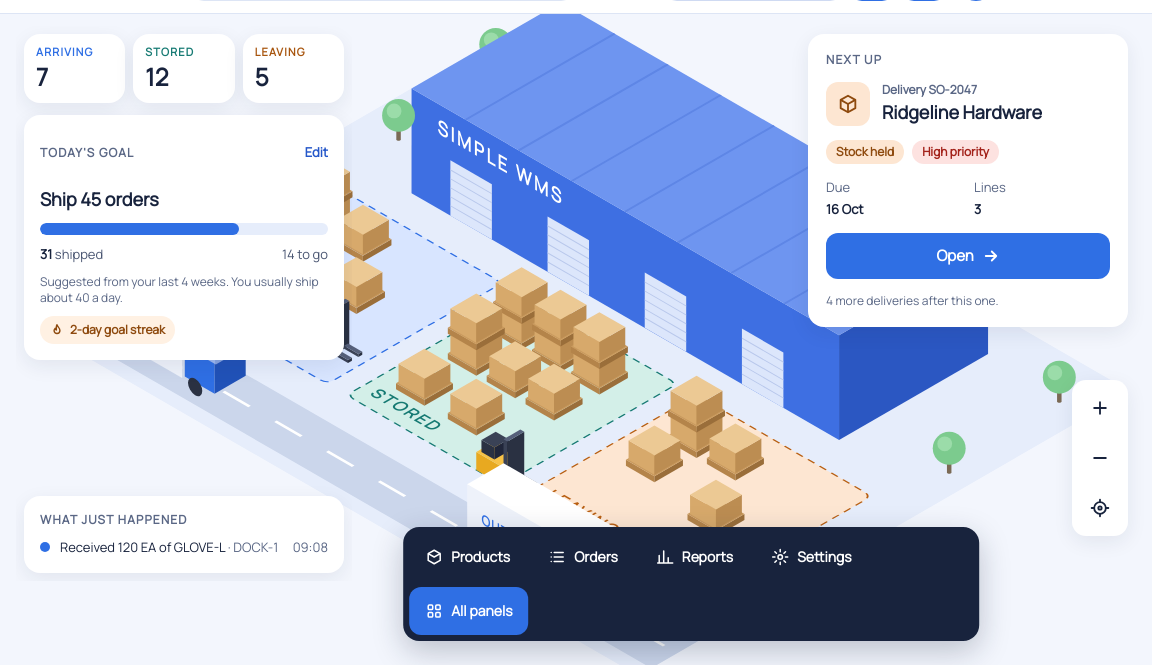
Map home › opens the panel for a counter in the drawer
Click the button "Arriving 7" at (75, 68), box x1=24 y1=34 x2=125 y2=102
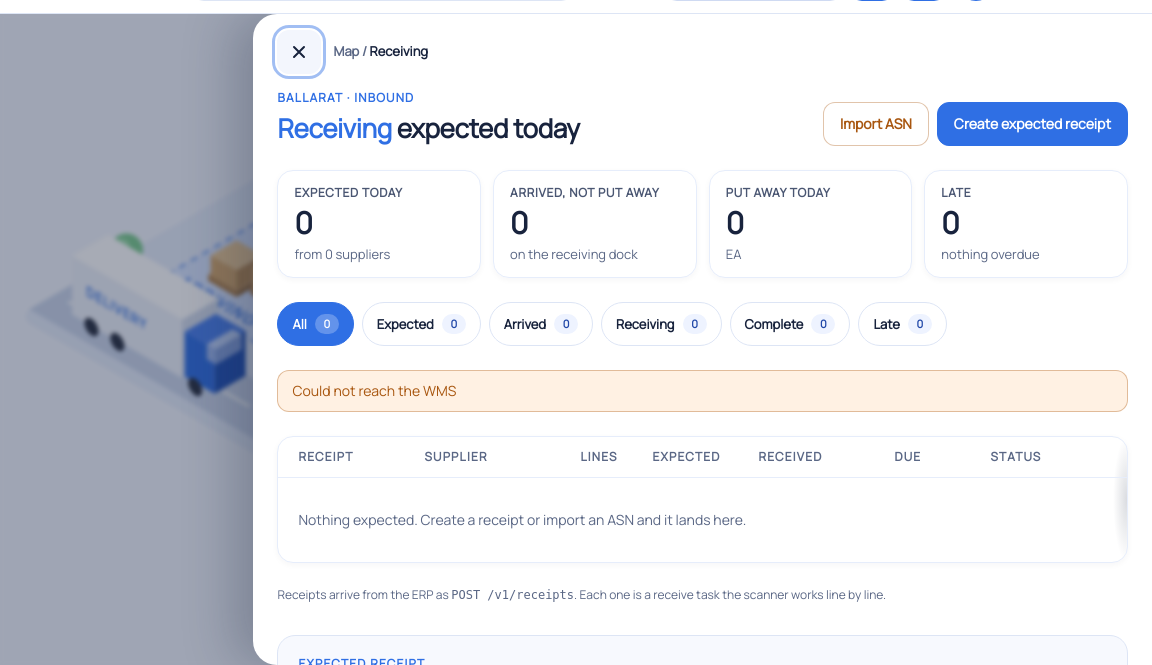
expect the element "Receiving" is shown: met
Click the link named "Back to the map" at (300, 52), box x1=278 y1=30 x2=322 y2=74
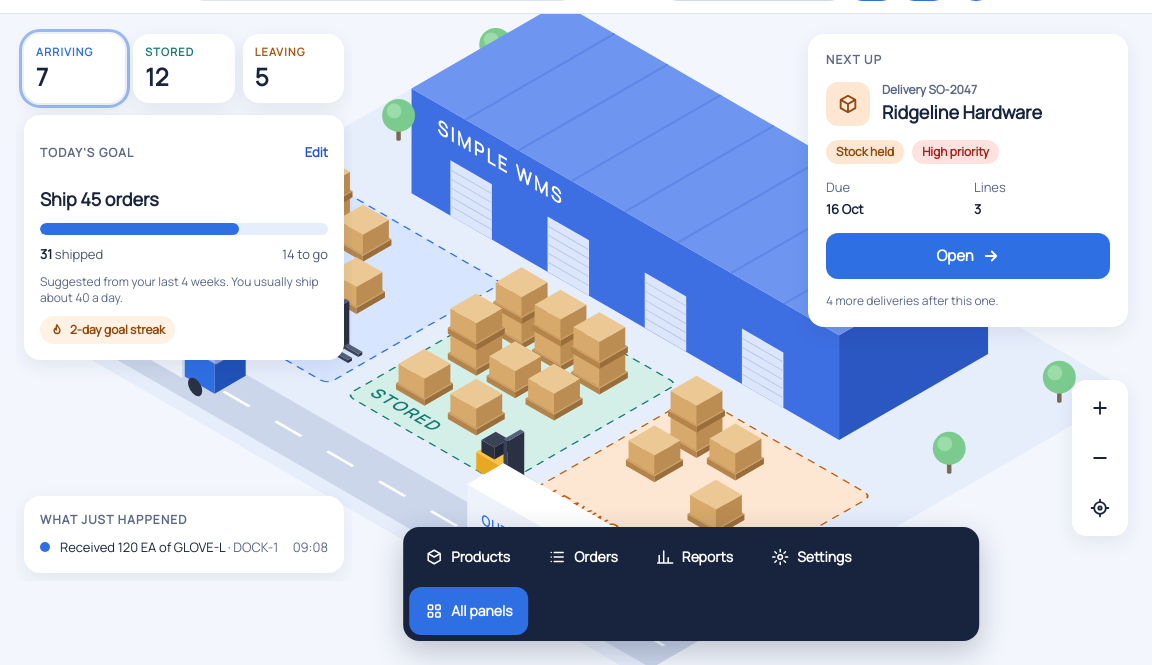
Click the button "Leaving 5" at (293, 68), box x1=243 y1=34 x2=344 y2=102
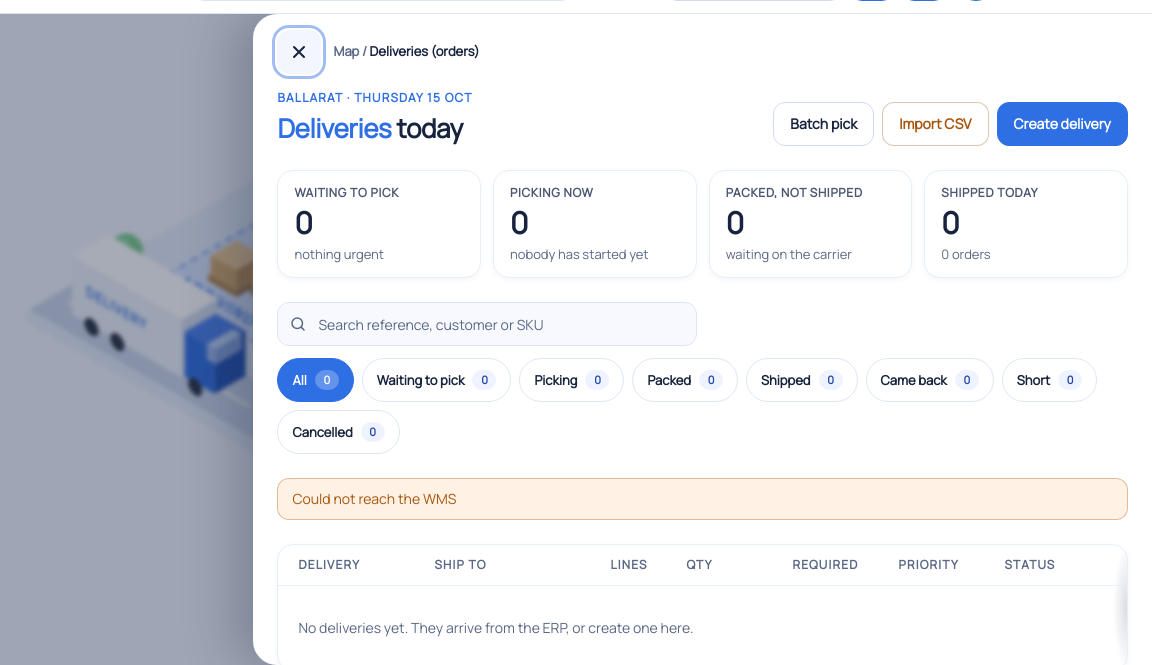
Click the link named "Back to the map" at (300, 52), box x1=278 y1=30 x2=322 y2=74
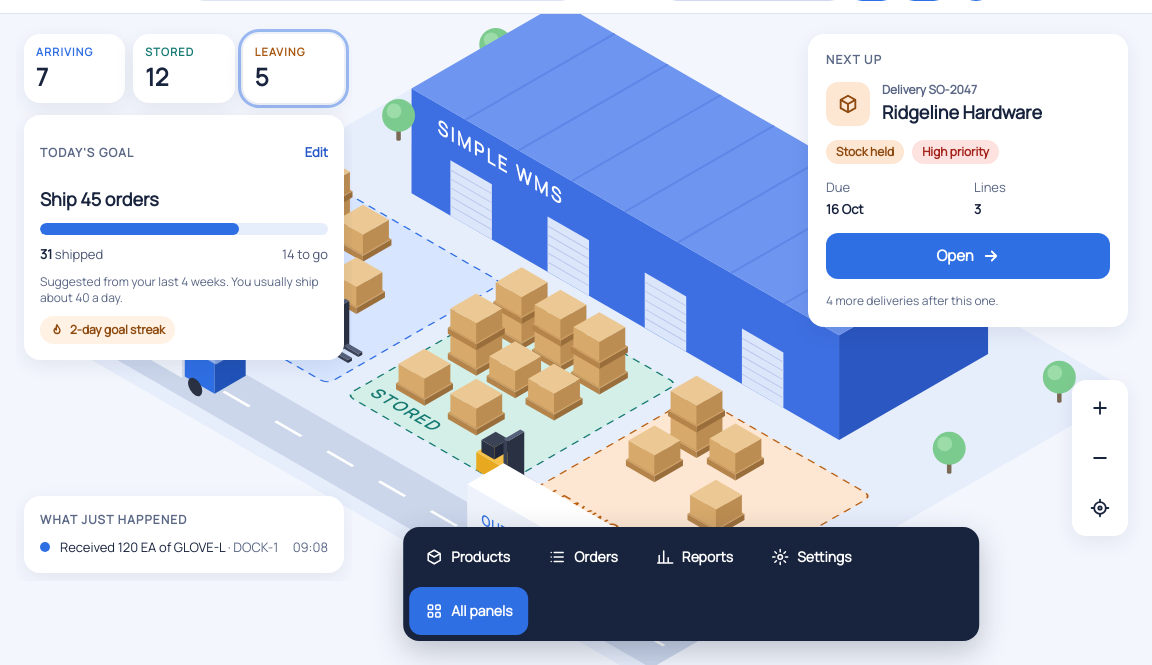
Click the button "Stored 12" at (184, 68), box x1=133 y1=34 x2=235 y2=102
(page scrolled)
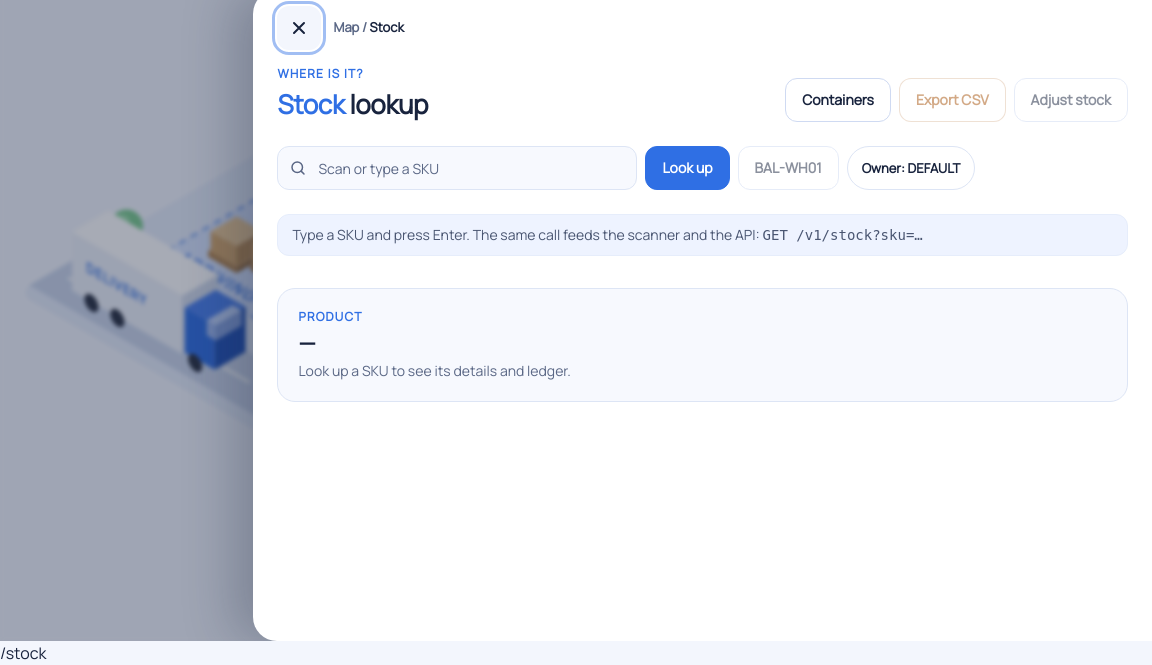
expect the text with test id "where" reads "/stock": met, box x1=0 y1=642 x2=46 y2=664
